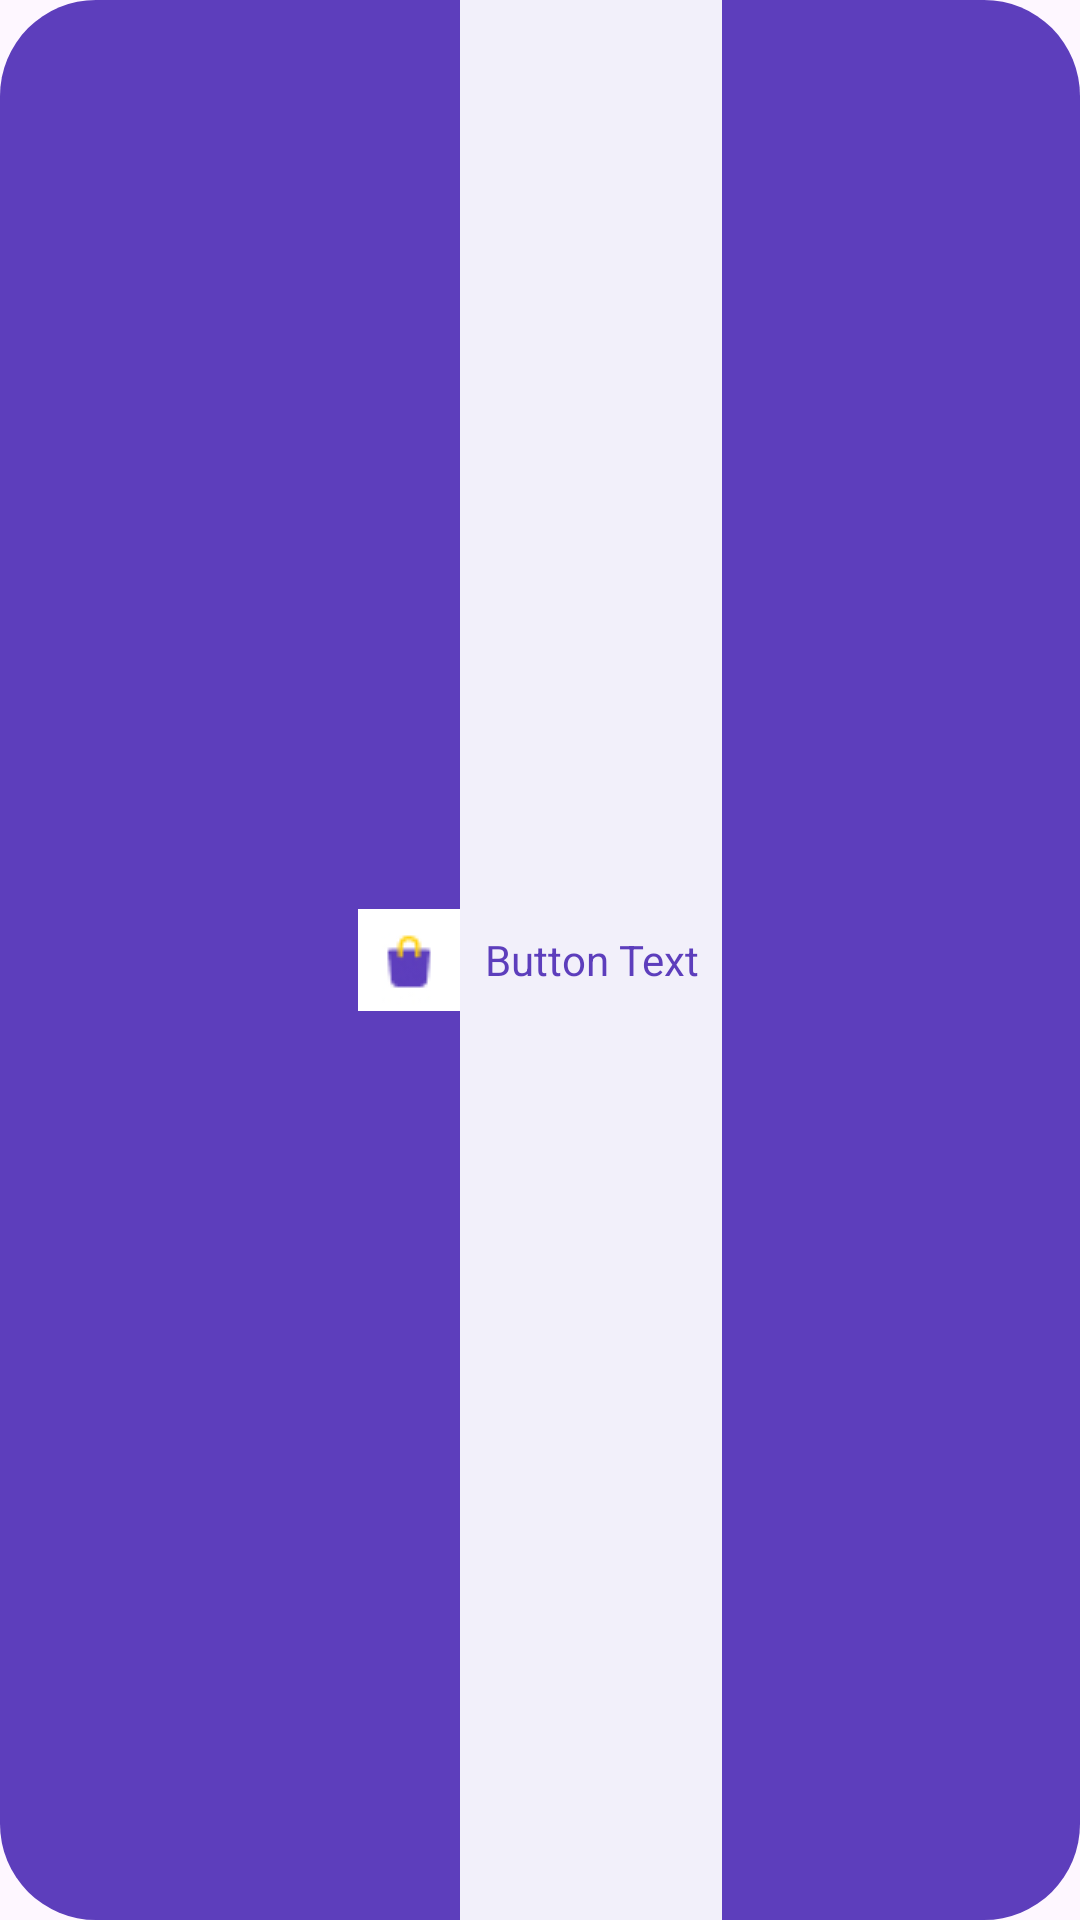

Named icons in this screenshot (1080*1920) and their bounding boxes, (x1, y1, x2, y2):
go to basket: (358, 909, 460, 1011)
